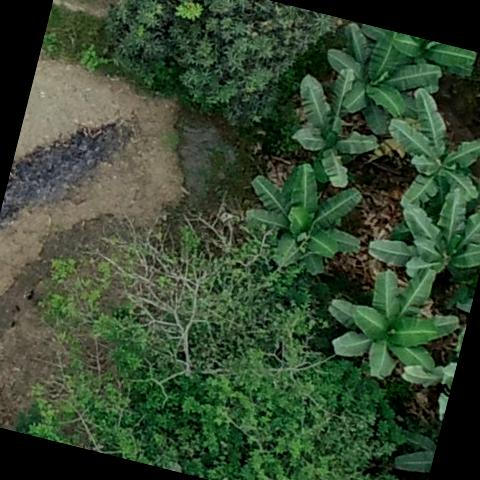Banana-plant: (314, 252, 467, 393), (236, 153, 374, 284), (280, 59, 395, 191), (372, 80, 480, 220), (357, 169, 480, 290), (318, 20, 446, 128)
